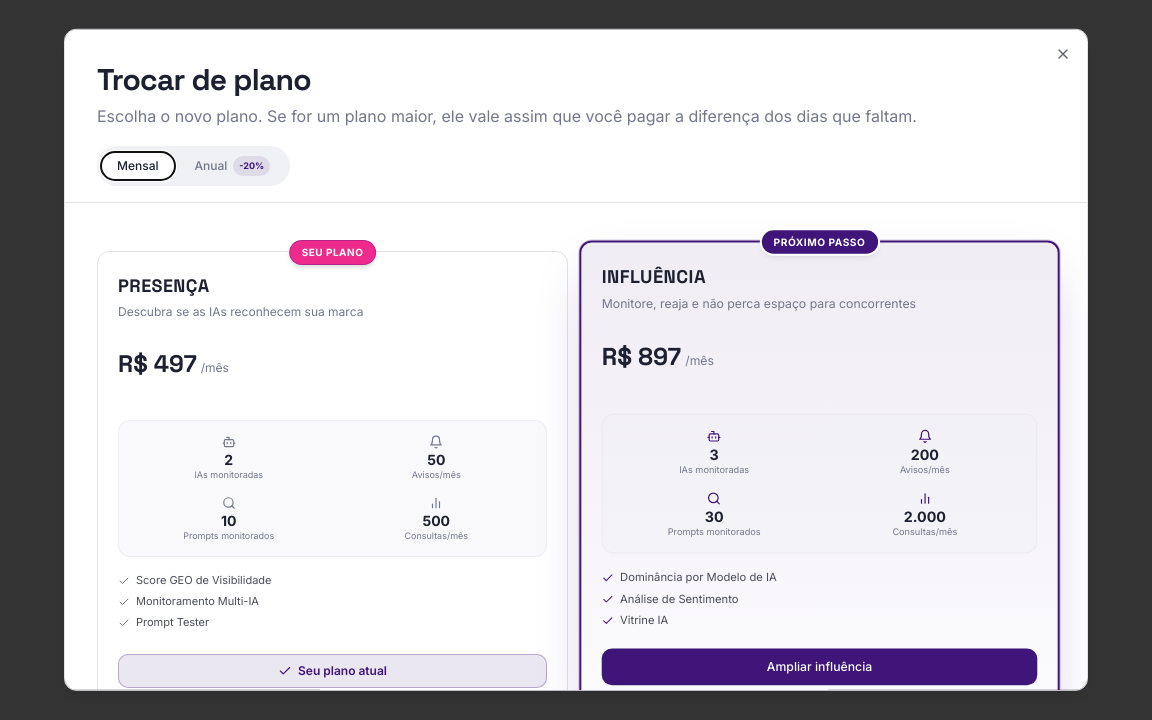
Scenario: pending_payment → diálogo de confirmação › (c) pedido reaproveitado com fatura mostra o mesmo diálogo com outro título
Click the button "Ampliar influência" at (819, 666), box [602,648,1037,685]
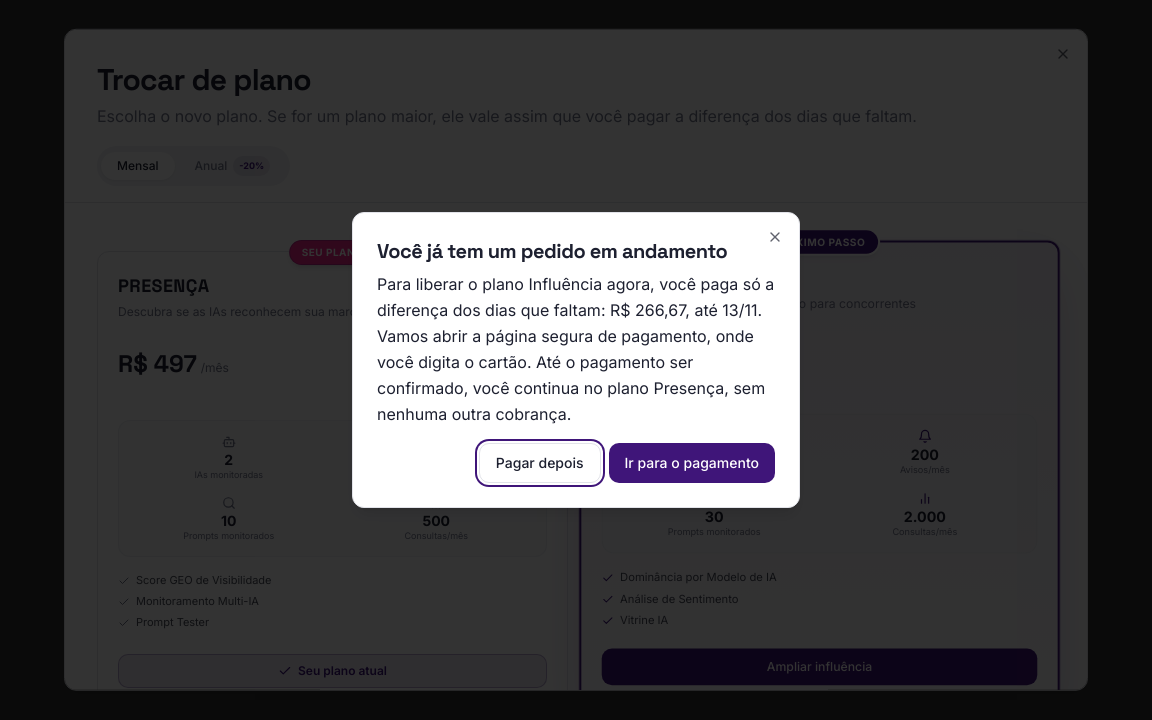
Expected: the heading "Você já tem um pedido em andamento" is shown, [377,237,775,265]
Expected: the text "R$ 266,67, até 13/11" is shown, [377,271,775,427]
